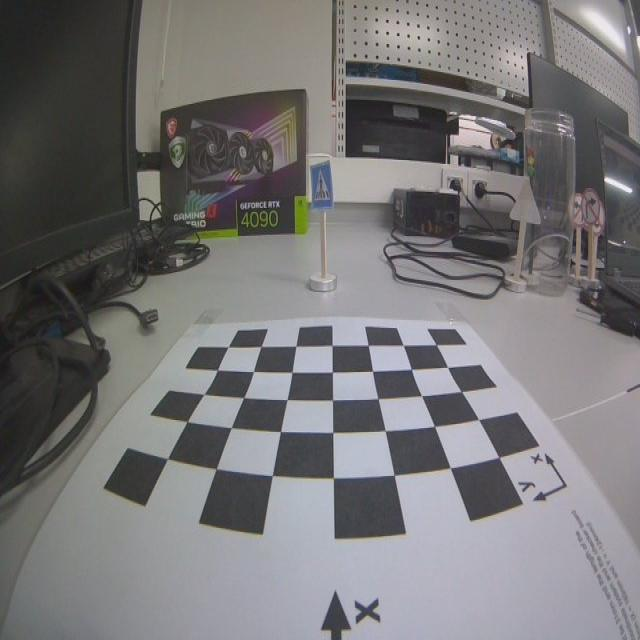Rambu Penyebrangan: (310, 162, 334, 210)
